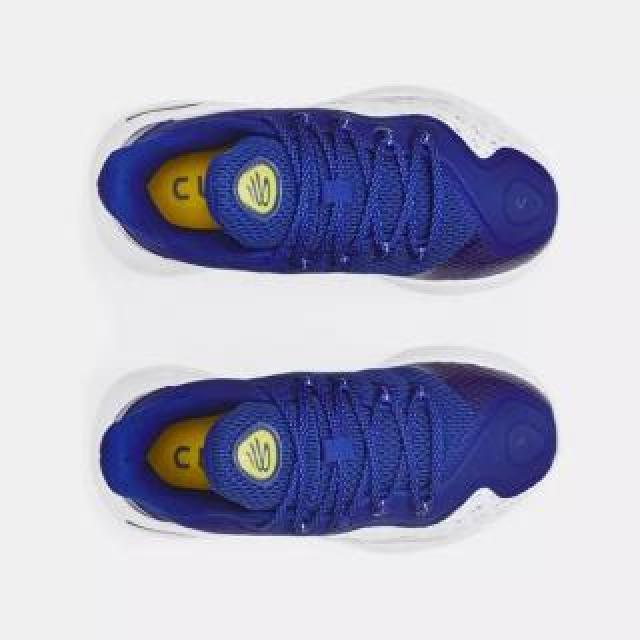shoes: (86, 81, 562, 297), (90, 341, 558, 543)
